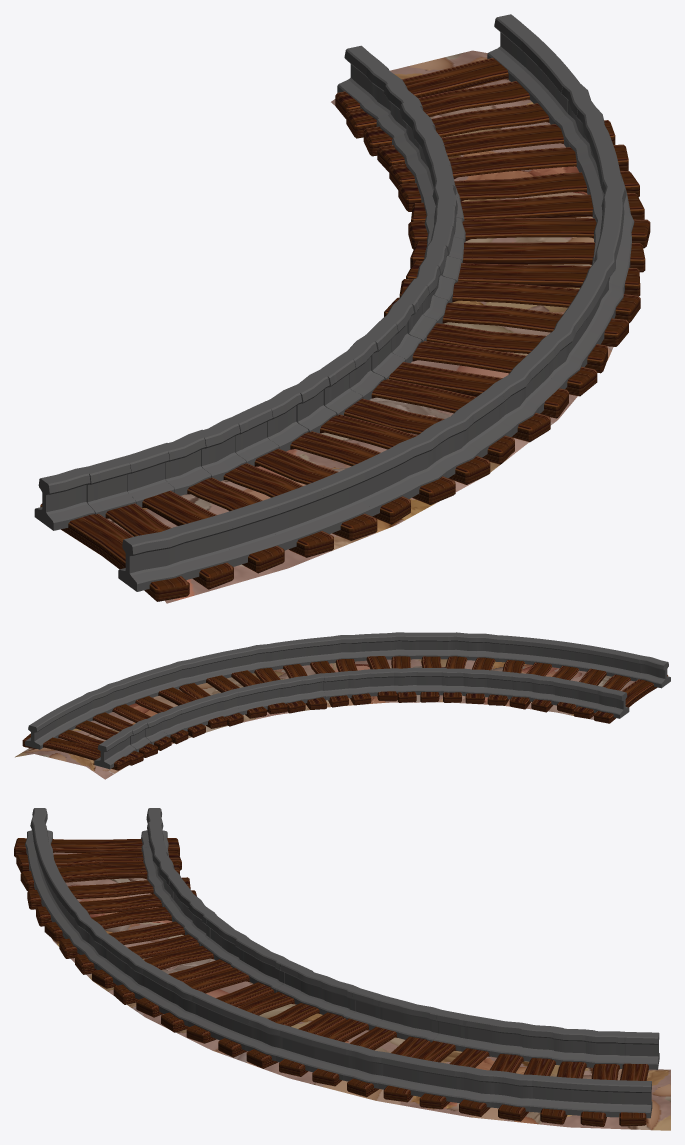
Rendered from Rail_Curve_L.fbx.
3 views of the same model, one above another, from view 1: azimuth 30°, elevation 25°; view 2: azimuth 150°, elevation 25°; view 3: azimuth 270°, elevation 25° (orthographic). The views are drawn at different scales.
Visible parts, largest first — view 1: Curve_L; view 2: Curve_L; view 3: Curve_L.
Boxes of the visible parts, bbox=[...] form: Curve_L: bbox=[34, 14, 650, 603]; Curve_L: bbox=[15, 632, 670, 779]; Curve_L: bbox=[14, 808, 670, 1130].
Size of the model in its own units: 821 by 53.38 by 802.
3 materials, 2 textured.
